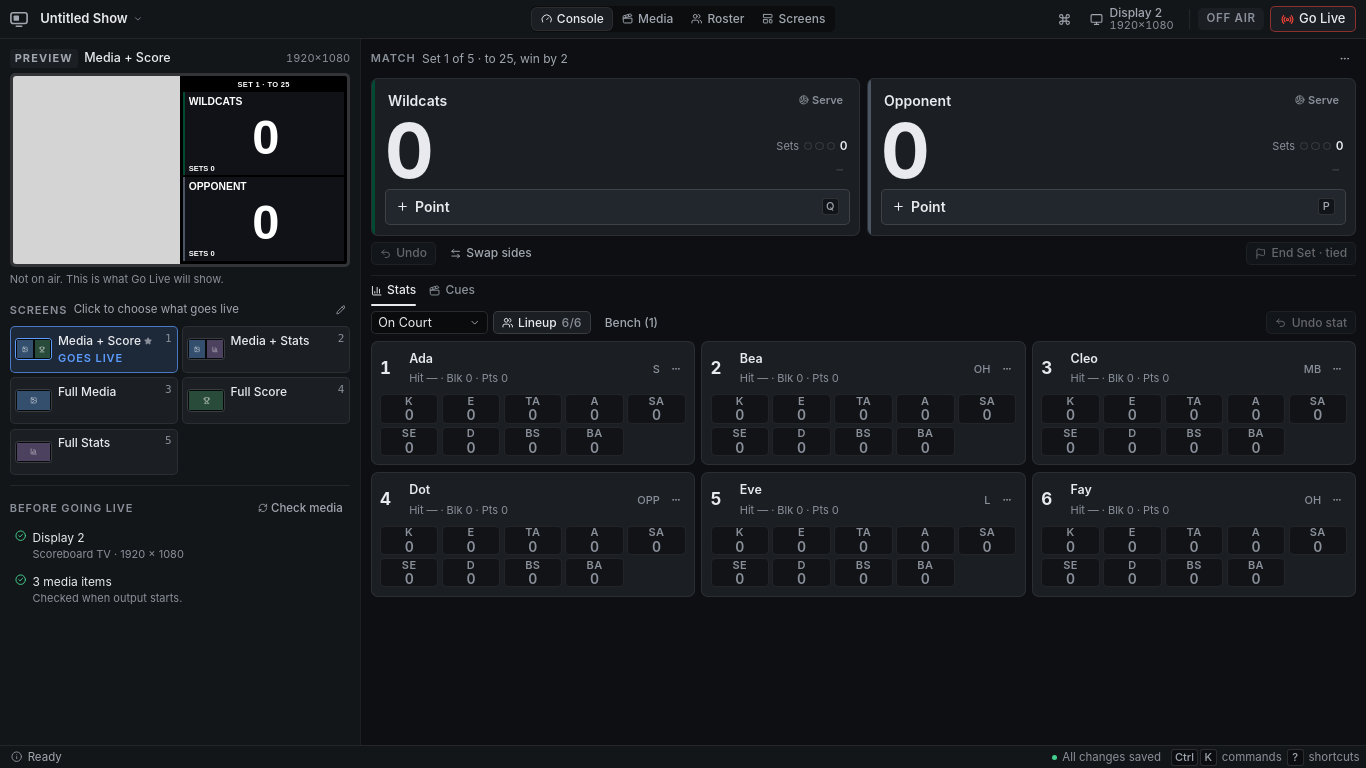
Test case: media transport › forwards keys pressed on the presentation window
Click the button "Go Live" at coordinates (1313, 19), box x1=1270 y1=6 x2=1356 y2=32
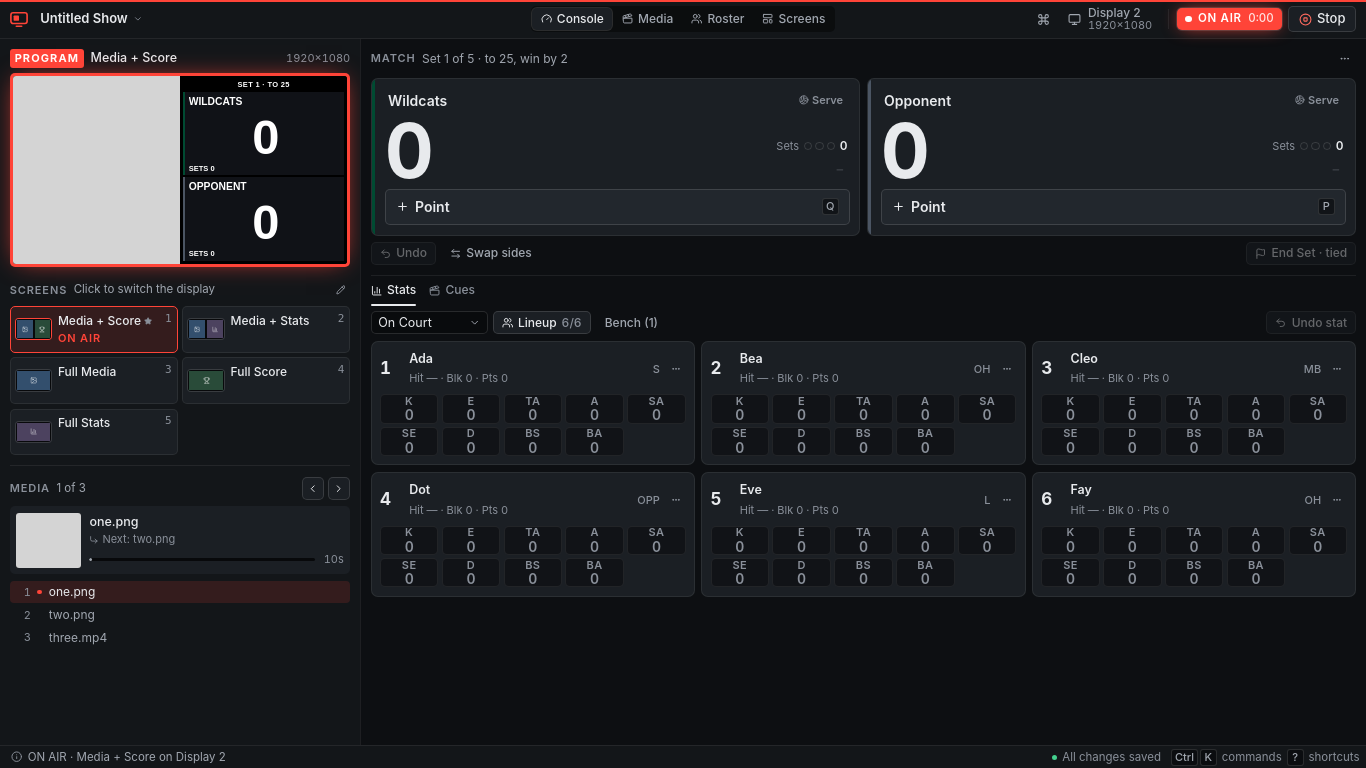
Check: the message "ON AIR" is shown, box x1=1177 y1=8 x2=1282 y2=30
